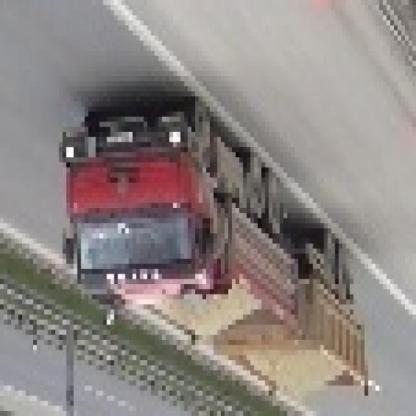truck: (60, 107, 369, 407)
